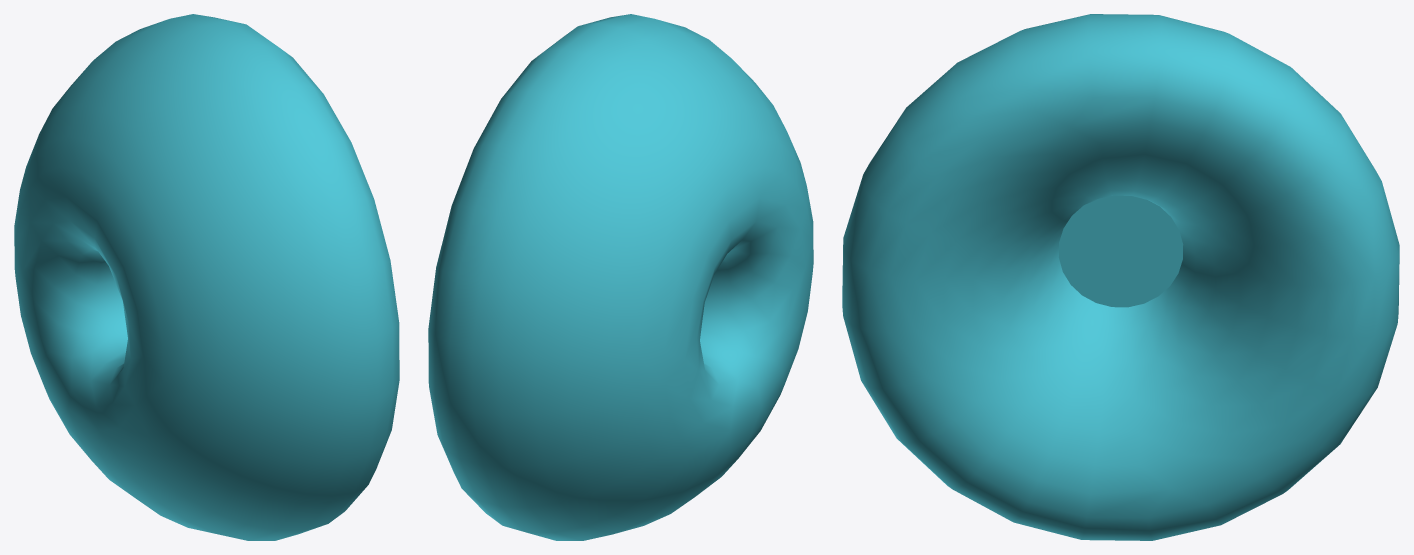
3 renders of one model, left to right at view 1: azimuth 30°, elevation 25°; view 2: azimuth 150°, elevation 25°; view 3: azimuth 270°, elevation 25°, orthographic. The views are drawn at different scales.
Parts seen in each view (by area): view 1: Renderer Node; view 2: Renderer Node; view 3: Renderer Node.
Boxes of the visible parts, x1,y1,x2,y2 form: Renderer Node: (14,14,399,540); Renderer Node: (428,14,813,540); Renderer Node: (842,14,1399,540).
Size of the model in its own units: 0.2993 by 0.6747 by 0.6747.
Materials: 1 (1 with a texture image).
